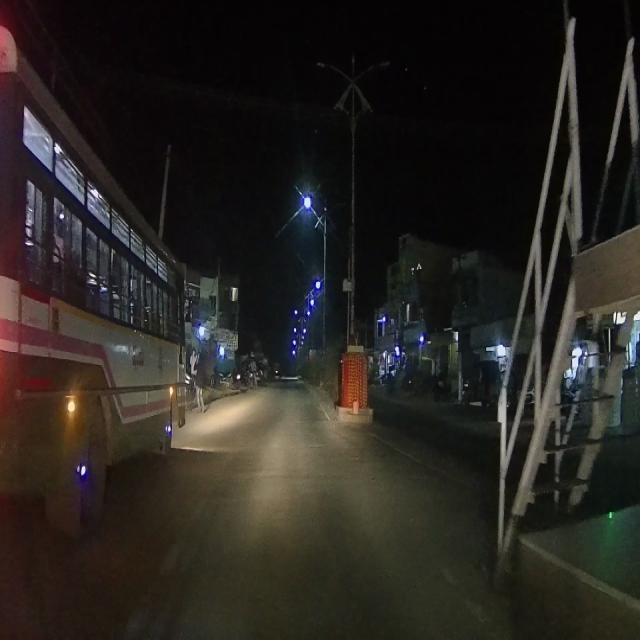bus ahead at: (0, 28, 185, 562)
